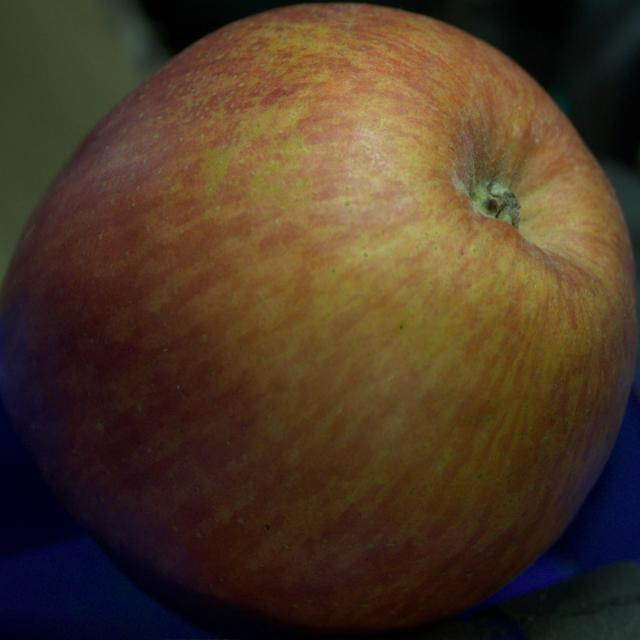apple: (0, 4, 637, 638)
